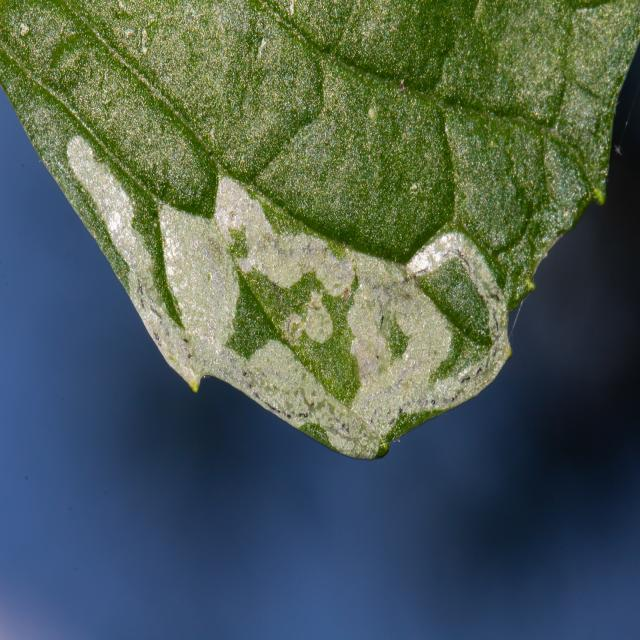Serpentine leafminer: (57, 114, 521, 470)
